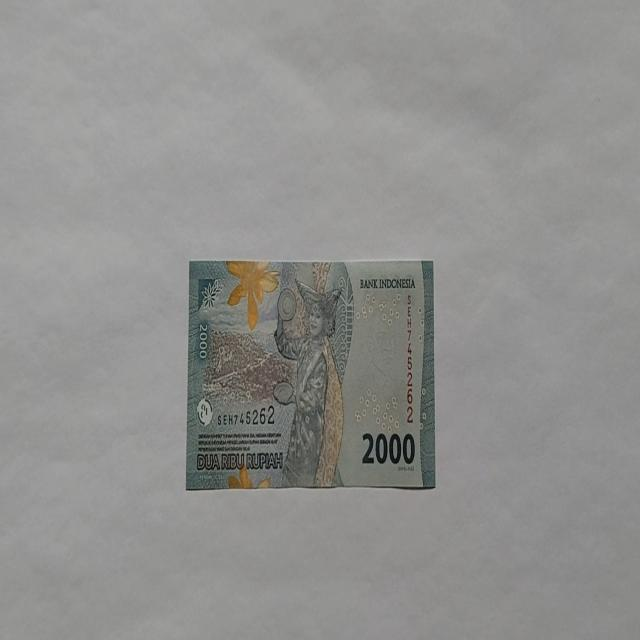dua ribu rupiah: (185, 257, 436, 491), (272, 276, 345, 488)
